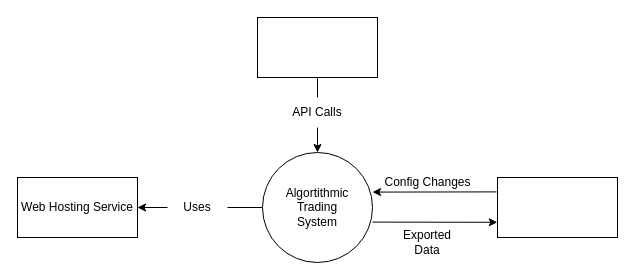
Image size: 635x280. Some labels were removed from this diagram. The shapes that lost their labels are listed below. From the top down, each one's box as (x1, y1, x2, y2) in pixels, then its label:
(256, 16, 378, 78): Financial API
(496, 176, 618, 238): Data Analyst
